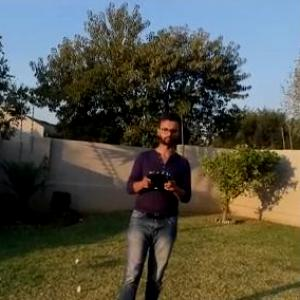follow: (113, 108, 195, 299)
